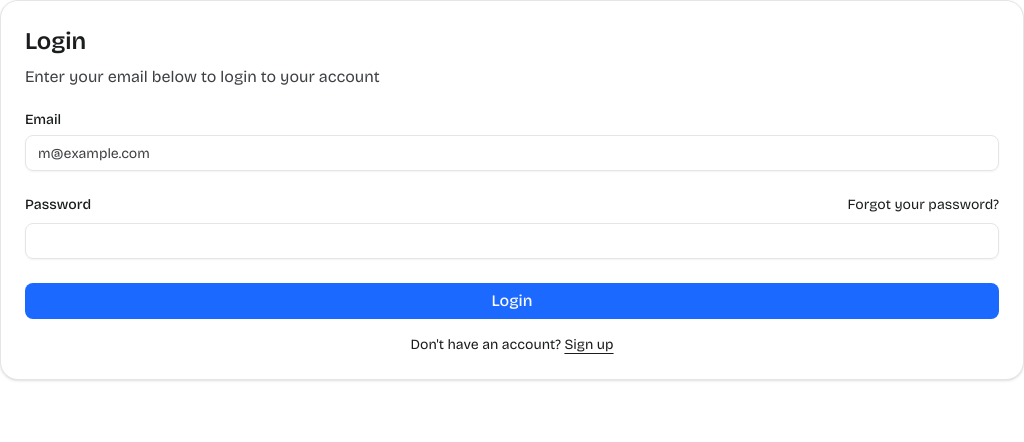
Test case: LoginForm › shows error when login fails
Step 1. Type "test@example.com" into the field labelled "Email" → point(512, 153), box [25,135,999,171]
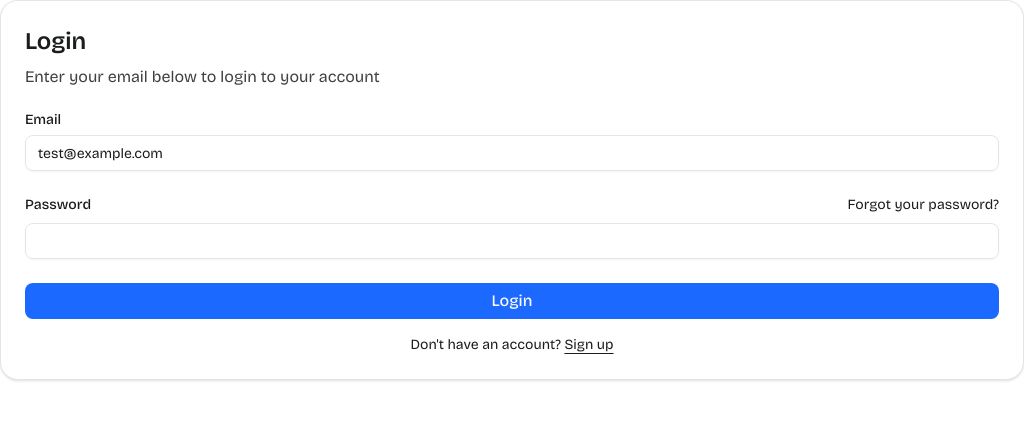
Step 2. Type "wrongpassword" into the password field labelled "Password" → point(512, 241), box [25,223,999,259]
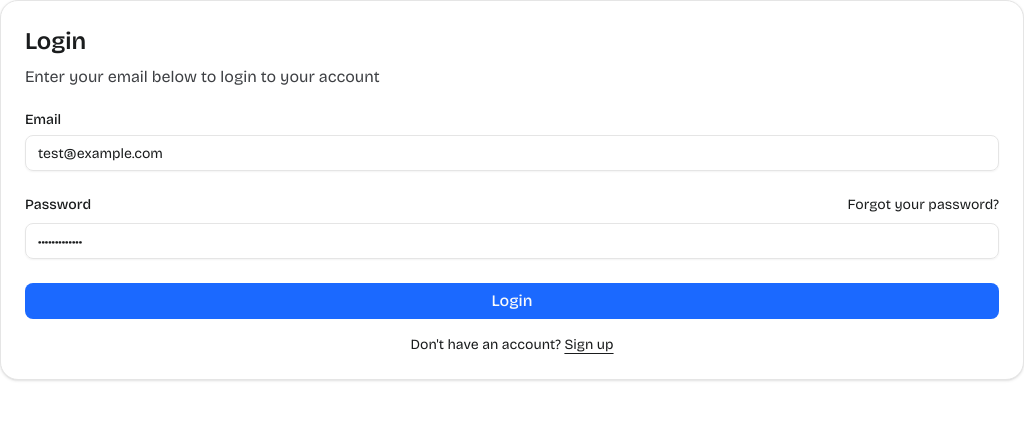
Step 3. Click the button "Login" → point(512, 301), box [25,283,999,319]
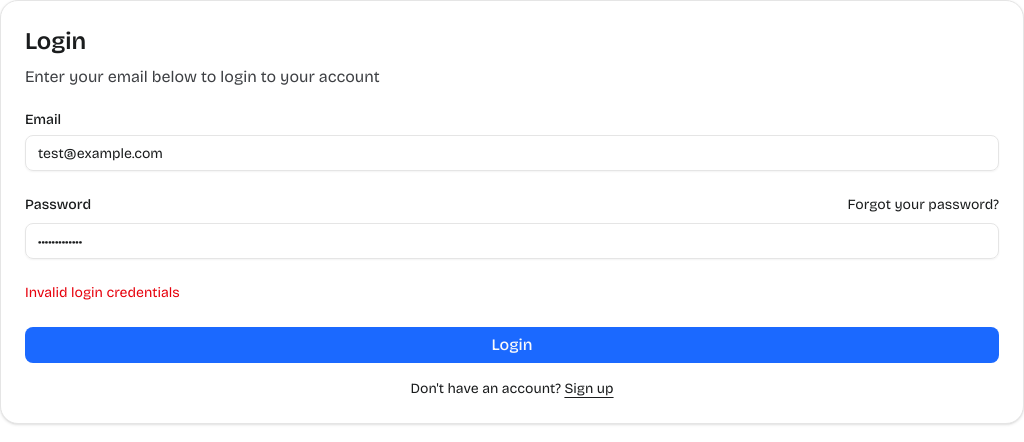
Check: the text "Invalid login credentials" is shown, box [25,284,180,301]
